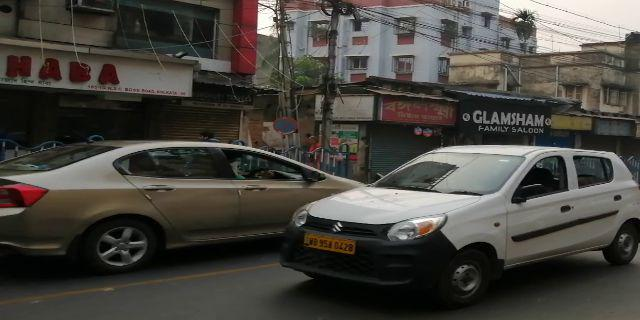Car: (289, 145, 630, 292), (13, 140, 360, 264)
